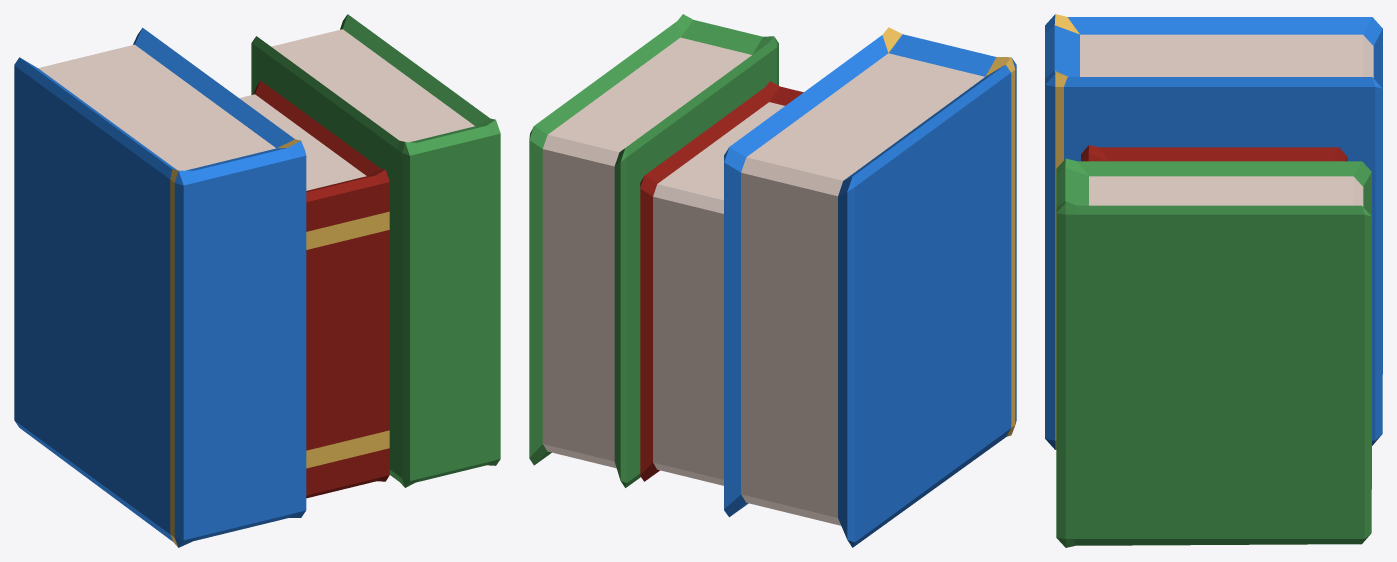
File: books.fbx
3 views of the same model, side by side, from view 1: azimuth 30°, elevation 25°; view 2: azimuth 150°, elevation 25°; view 3: azimuth 270°, elevation 25° (orthographic).
Parts seen in each view (by area): view 1: Cube, Cube.002, Cube.001; view 2: Cube, Cube.002, Cube.001; view 3: Cube.002, Cube, Cube.001.
Boxes of the visible parts, x1,y1,x2,y2 form: Cube: (14, 27, 306, 547); Cube.002: (251, 14, 500, 487); Cube.001: (239, 80, 389, 498); Cube: (724, 27, 1016, 547); Cube.002: (529, 14, 778, 487); Cube.001: (640, 81, 803, 485); Cube.002: (1056, 158, 1371, 547); Cube: (1045, 14, 1382, 449); Cube.001: (1081, 145, 1347, 161).
Size of the model in its own units: 436 by 478 by 388.
